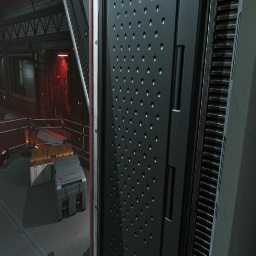FirstAidBox ,: (0, 148, 9, 167), (9, 150, 15, 154)
